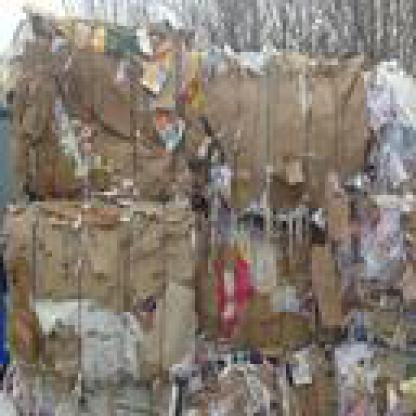CARDBOARD: (0, 195, 195, 413), (6, 7, 202, 195), (198, 42, 368, 234), (192, 192, 341, 358), (325, 186, 413, 344), (176, 338, 332, 413), (358, 58, 413, 212), (332, 335, 413, 413)
